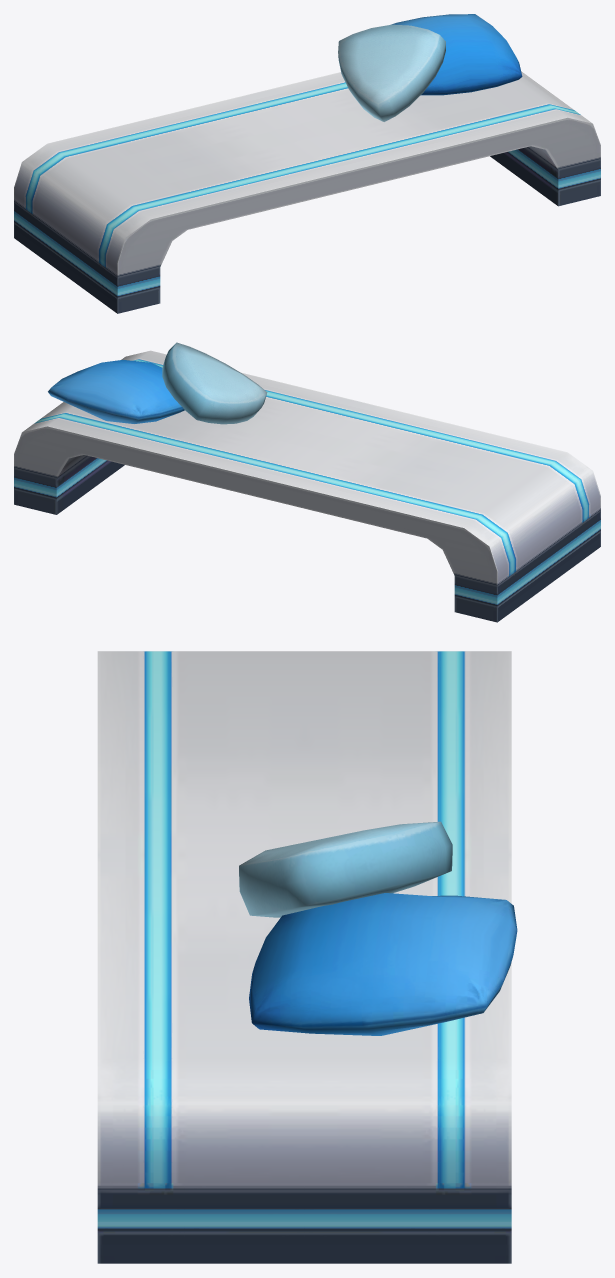
File: my_millenniumlounge_01_bench_01.glb
The picture shows the model from 3 angles, top to bottom: view 1: azimuth 30°, elevation 25°; view 2: azimuth 150°, elevation 25°; view 3: azimuth 270°, elevation 25°; orthographic projection. The views are drawn at different scales.
Parts seen in each view (by area): view 1: my_millenniumlounge_01_bench_01; view 2: my_millenniumlounge_01_bench_01; view 3: my_millenniumlounge_01_bench_01.
Boxes of the visible parts, x1,y1,x2,y2 form: my_millenniumlounge_01_bench_01: (14, 14, 600, 313); my_millenniumlounge_01_bench_01: (14, 342, 600, 622); my_millenniumlounge_01_bench_01: (97, 651, 517, 1263).
Bounding box in the file's own units: 0.0135 × 0.00404 × 0.00506.
Materials: 2 (2 with a texture image).
